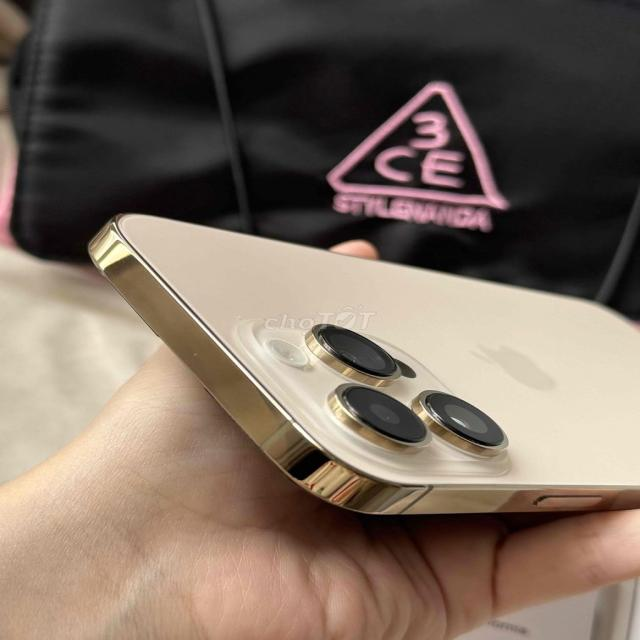gen_14: (90, 198, 640, 513)
